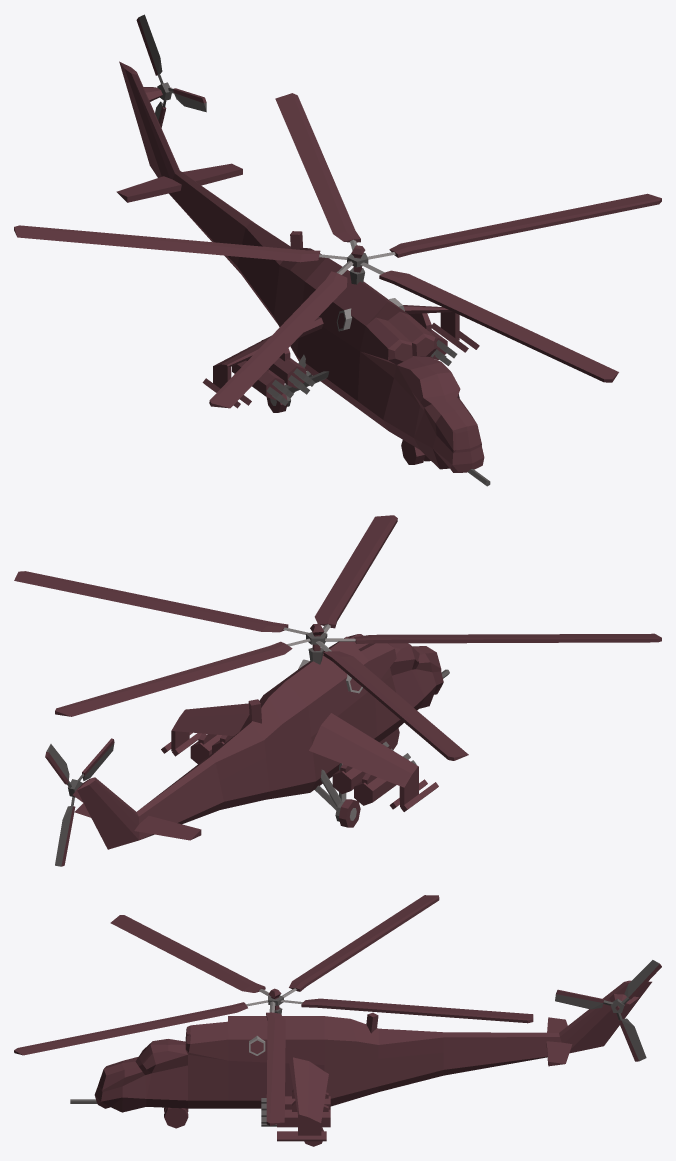
Rendered from military-helicopter-b-military.glb.
3 views of the same model, one above another, from view 1: azimuth 30°, elevation 25°; view 2: azimuth 150°, elevation 25°; view 3: azimuth 270°, elevation 25° (orthographic). The views are drawn at different scales.
Visible parts, largest first — view 1: SM_Helicopter_B_Military_Base, SM_Helicopter_B_Military_Propeller_Main, SM_Helicopter_B_Military_Propeller_Small; view 2: SM_Helicopter_B_Military_Base, SM_Helicopter_B_Military_Propeller_Main, SM_Helicopter_B_Military_Propeller_Small, SM_Helicopter_B_Military_Wheel_BR; view 3: SM_Helicopter_B_Military_Base, SM_Helicopter_B_Military_Propeller_Main, SM_Helicopter_B_Military_Propeller_Small, SM_Helicopter_B_Military_Wheel_F.
Boxes of the visible parts, x1,y1,x2,y2 form: SM_Helicopter_B_Military_Base: (116, 61, 490, 486); SM_Helicopter_B_Military_Propeller_Main: (14, 93, 661, 408); SM_Helicopter_B_Military_Propeller_Small: (136, 14, 206, 127); SM_Helicopter_B_Military_Base: (73, 623, 449, 849); SM_Helicopter_B_Military_Propeller_Main: (14, 515, 661, 760); SM_Helicopter_B_Military_Propeller_Small: (45, 738, 114, 866); SM_Helicopter_B_Military_Wheel_BR: (335, 799, 360, 827); SM_Helicopter_B_Military_Base: (70, 980, 651, 1141); SM_Helicopter_B_Military_Propeller_Main: (14, 895, 533, 1125); SM_Helicopter_B_Military_Propeller_Small: (555, 960, 661, 1061); SM_Helicopter_B_Military_Wheel_F: (164, 1107, 188, 1128).
Bounding box in the file's own units: 15.6 × 6.01 × 20.29.
